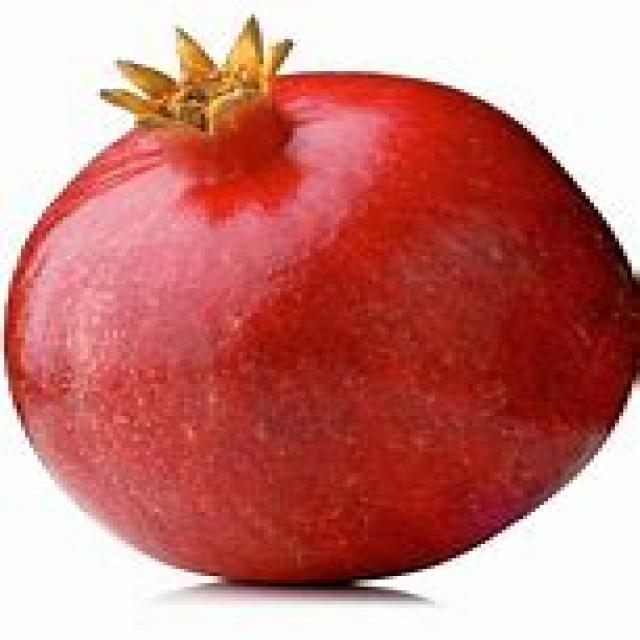Pomegranate: (4, 11, 640, 583)
